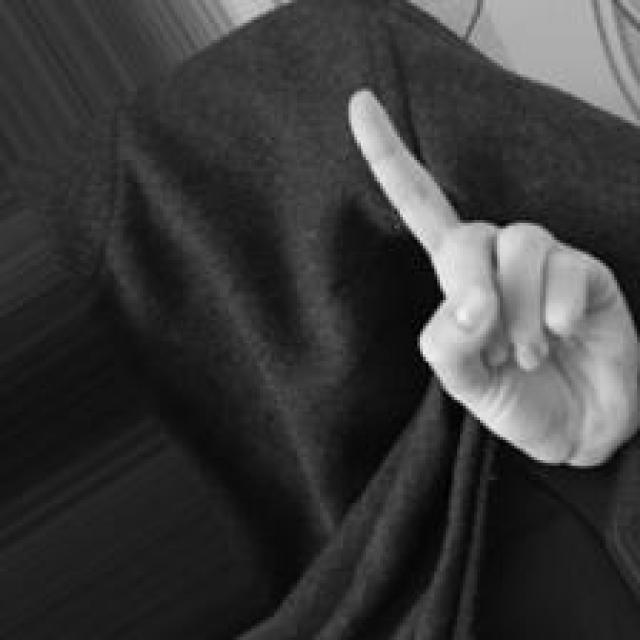I: (340, 80, 640, 470)
